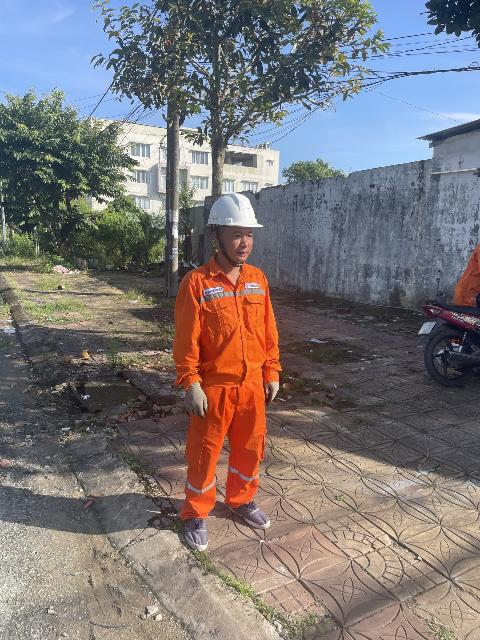gloves: (172, 374, 218, 430), (254, 353, 286, 403)
helmet: (195, 192, 264, 237)
shoes: (227, 489, 278, 533), (179, 506, 216, 555)
